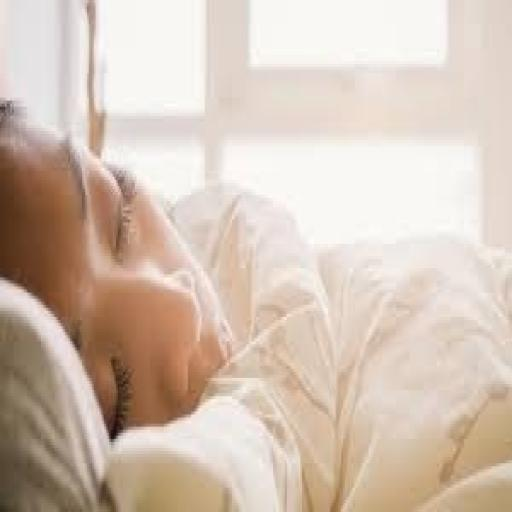sleeping: (0, 97, 236, 439)
